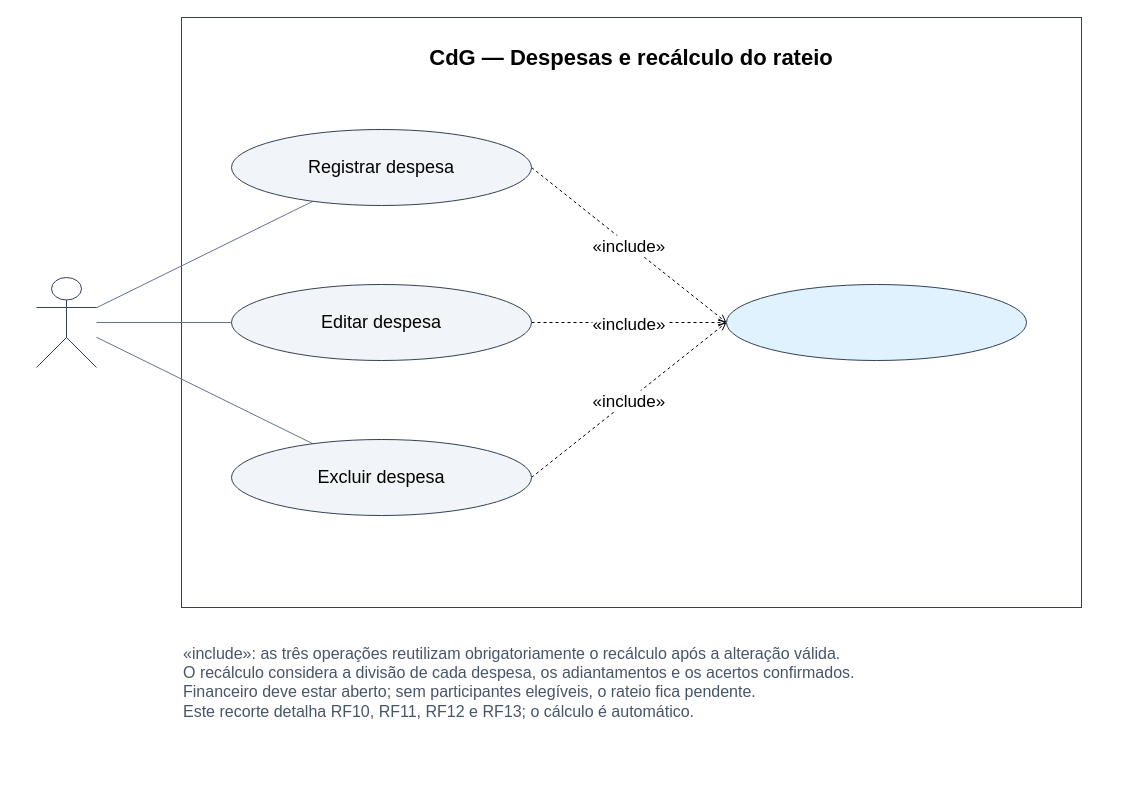
Image size: 1139x805. Some labels were removed from this diagram. The centre of each missing label's shape, as x and y in pixels:
"Organizador" goes at [66,322].
"Recalcular rateio e saldos" goes at [876,322].
